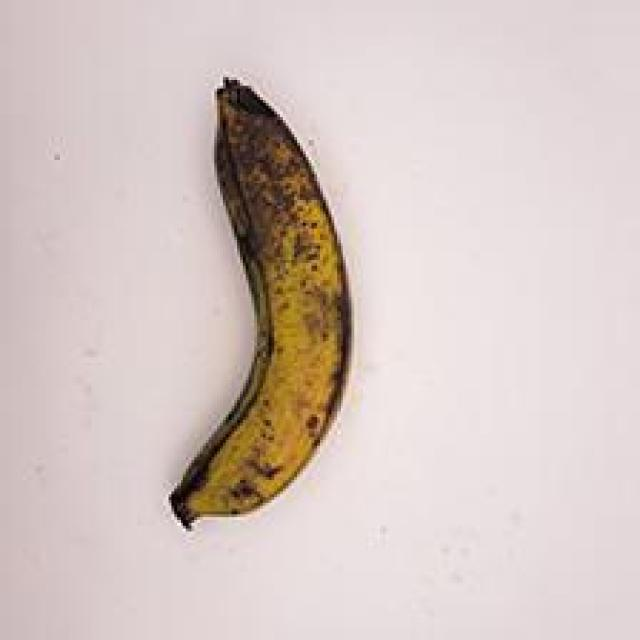Overripe: (131, 58, 384, 554)
